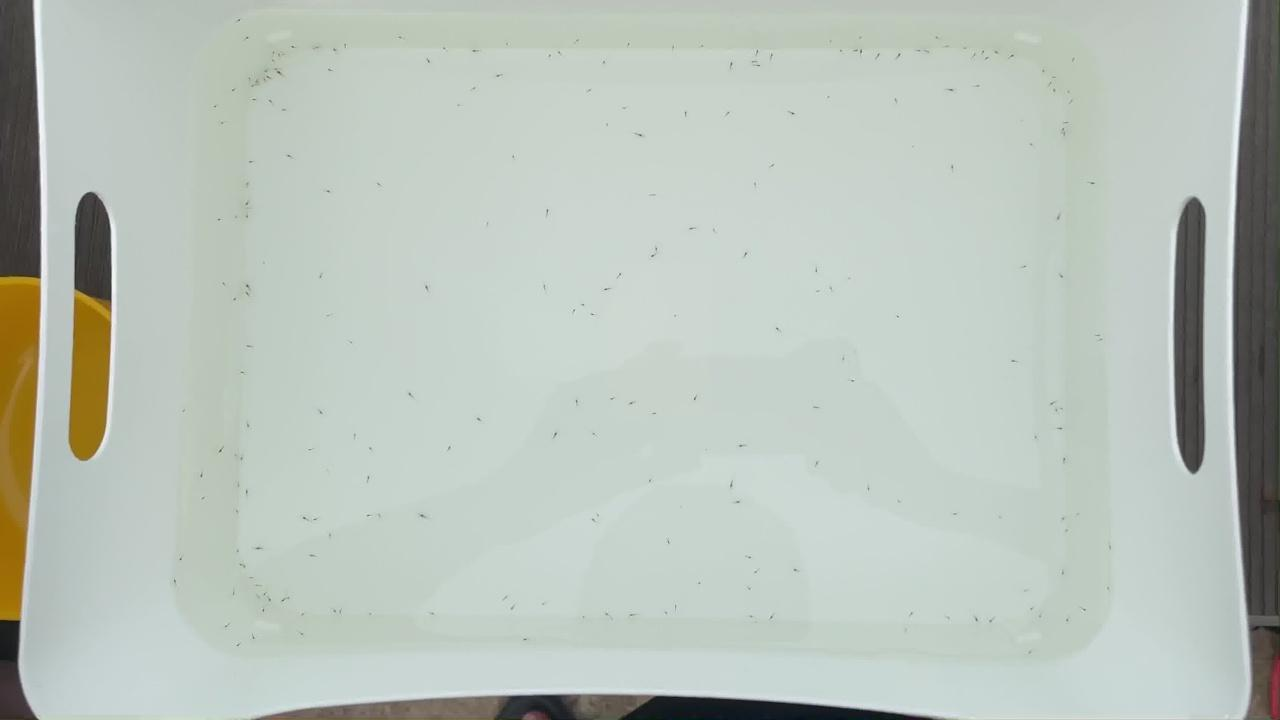shrimp: (1065, 96, 1078, 104), (982, 57, 995, 65), (930, 35, 943, 43), (620, 102, 633, 110), (631, 130, 644, 138), (455, 102, 468, 110), (763, 163, 776, 171), (1028, 434, 1041, 442), (825, 284, 838, 292), (808, 406, 821, 414), (741, 251, 754, 259), (615, 273, 628, 281), (543, 207, 556, 215), (508, 151, 521, 159), (422, 284, 435, 292), (768, 611, 781, 619), (744, 550, 757, 558), (500, 595, 513, 603), (538, 600, 551, 608), (474, 417, 487, 425), (249, 96, 262, 104), (290, 41, 303, 49), (270, 58, 283, 66), (247, 634, 260, 642), (224, 617, 237, 625), (196, 473, 209, 481), (241, 489, 254, 497), (230, 589, 243, 597), (276, 594, 289, 602), (305, 445, 318, 453), (217, 284, 230, 292), (258, 262, 271, 270), (372, 163, 385, 171), (1050, 90, 1062, 98), (424, 57, 436, 65), (1006, 357, 1018, 365), (812, 456, 824, 464), (1056, 572, 1068, 580), (552, 429, 564, 437), (590, 428, 602, 436), (645, 478, 657, 486), (419, 511, 431, 519), (236, 639, 248, 647), (258, 589, 270, 597), (347, 340, 359, 348), (1086, 183, 1099, 190), (1051, 214, 1064, 221), (951, 165, 964, 172), (907, 142, 920, 149), (890, 100, 903, 107), (944, 89, 957, 96), (970, 84, 983, 91), (1021, 140, 1034, 147), (1060, 129, 1073, 136), (1061, 120, 1074, 127), (1065, 87, 1078, 94), (1045, 82, 1058, 89), (1050, 70, 1063, 77), (1067, 59, 1080, 66), (980, 50, 993, 57), (971, 52, 984, 59), (961, 45, 974, 52), (943, 44, 956, 51), (924, 47, 937, 54), (915, 47, 928, 54), (894, 53, 907, 60), (876, 53, 889, 60), (858, 47, 871, 54), (851, 48, 864, 55), (837, 47, 850, 54), (825, 37, 838, 44), (825, 95, 838, 102), (785, 112, 798, 119), (750, 63, 763, 70), (763, 55, 776, 62), (753, 45, 766, 52), (727, 61, 740, 68), (680, 108, 693, 115), (625, 42, 638, 49), (603, 63, 616, 70), (584, 89, 597, 96), (602, 121, 615, 128), (571, 39, 584, 46), (556, 48, 569, 55), (544, 52, 557, 59), (469, 86, 482, 93), (440, 46, 453, 53), (397, 35, 410, 42), (750, 180, 763, 187), (1053, 269, 1066, 276), (1013, 261, 1026, 268), (1047, 398, 1060, 405), (1050, 407, 1063, 414), (1056, 425, 1069, 432), (1060, 458, 1073, 465), (812, 270, 825, 277), (812, 290, 825, 297), (845, 278, 858, 285), (892, 316, 905, 323), (846, 377, 859, 384), (773, 328, 786, 335), (708, 229, 721, 236), (646, 192, 659, 199), (647, 252, 660, 259), (601, 286, 614, 293), (589, 310, 602, 317), (578, 300, 591, 307), (568, 309, 581, 316), (541, 283, 554, 290), (484, 223, 497, 230), (864, 487, 877, 494), (893, 497, 906, 504), (1060, 515, 1073, 522), (1061, 531, 1074, 538), (1107, 541, 1120, 548), (1102, 583, 1115, 590), (1064, 617, 1077, 624), (1038, 612, 1051, 619), (1029, 605, 1042, 612), (1021, 590, 1034, 597), (1011, 612, 1024, 619), (987, 618, 1000, 625), (968, 614, 981, 621), (942, 614, 955, 621), (906, 611, 919, 618), (899, 626, 912, 633), (748, 614, 761, 621), (751, 571, 764, 578), (732, 498, 745, 505), (726, 482, 739, 489), (736, 444, 749, 451), (750, 420, 763, 427), (647, 409, 660, 416), (626, 398, 639, 405), (608, 398, 621, 405), (572, 398, 585, 405), (593, 511, 606, 518), (587, 519, 600, 526), (694, 577, 707, 584), (671, 602, 684, 609), (660, 609, 673, 616), (625, 611, 638, 618), (578, 615, 591, 622), (521, 637, 534, 644), (509, 605, 522, 612), (443, 447, 456, 454), (406, 395, 419, 402), (279, 107, 292, 114), (265, 97, 278, 104), (217, 119, 230, 126), (228, 86, 241, 93), (231, 22, 244, 29), (243, 34, 256, 41), (312, 44, 325, 51), (328, 45, 341, 52), (339, 41, 352, 48), (268, 50, 281, 57), (258, 76, 271, 83), (258, 66, 271, 73), (253, 78, 266, 85), (248, 83, 261, 90), (245, 74, 258, 81), (168, 578, 181, 585), (175, 556, 188, 563), (200, 493, 213, 500), (177, 406, 190, 413), (244, 422, 257, 429), (237, 454, 250, 461), (230, 453, 243, 460), (232, 479, 245, 486), (231, 508, 244, 515), (234, 550, 247, 557), (250, 546, 263, 553), (238, 558, 251, 565), (248, 575, 261, 582), (253, 590, 266, 597), (295, 629, 308, 636), (296, 608, 309, 615), (329, 608, 342, 615), (332, 606, 345, 613), (311, 518, 324, 525), (298, 514, 311, 521), (362, 513, 375, 520), (377, 510, 390, 517), (362, 474, 375, 481), (364, 445, 377, 452), (349, 432, 362, 439), (317, 407, 330, 414), (240, 372, 253, 379), (245, 343, 258, 350), (230, 293, 243, 300), (323, 310, 336, 317), (315, 273, 328, 280), (372, 181, 385, 188), (325, 186, 338, 193), (284, 154, 297, 161), (247, 161, 260, 168), (239, 198, 252, 205), (241, 212, 254, 219), (228, 215, 241, 222), (214, 219, 227, 226), (1039, 68, 1051, 75), (1011, 53, 1023, 60), (1005, 53, 1017, 60), (994, 47, 1006, 54), (851, 36, 863, 43), (723, 110, 735, 117), (668, 45, 680, 52), (496, 72, 508, 79), (501, 42, 513, 49), (469, 51, 481, 58), (1089, 331, 1101, 338), (1094, 335, 1106, 342), (839, 355, 851, 362), (684, 225, 696, 232), (651, 245, 663, 252), (950, 515, 962, 522), (1078, 604, 1090, 611), (1022, 648, 1034, 655), (745, 582, 757, 589), (789, 568, 801, 575), (690, 395, 702, 402), (662, 538, 674, 545), (601, 612, 613, 619), (429, 610, 441, 617), (208, 104, 220, 111), (324, 66, 336, 73), (274, 49, 286, 56), (275, 66, 287, 73), (264, 71, 276, 78), (214, 444, 226, 451), (253, 580, 265, 587), (263, 597, 275, 604), (258, 608, 270, 615), (308, 554, 320, 561), (324, 531, 336, 538), (241, 293, 253, 300), (241, 284, 253, 291), (241, 180, 253, 187)
